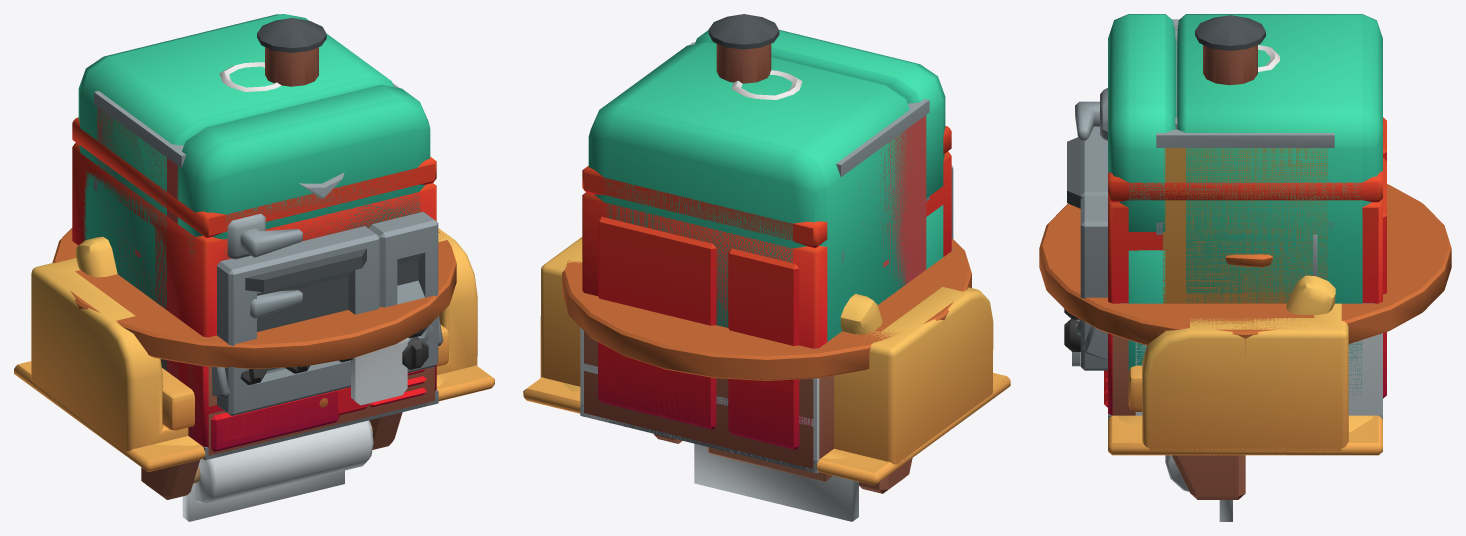
Rendered from kaykit.glb.
3 renders of one model, left to right at view 1: azimuth 30°, elevation 25°; view 2: azimuth 150°, elevation 25°; view 3: azimuth 270°, elevation 25°, orthographic.
Parts seen in each view (by area): view 1: fridge_A_decorated, fridge_A_decorated_door_top, oven, couch_pillows, oven_door, table_round_A, shelf_papertowel_decorated, stove_multi, building_F, building_D, rug_rectangle_stripes_A, kitchencounter_straight_A_decorated (+5 smaller); view 2: fridge_A_decorated, oven, couch_pillows, table_round_A, stove_multi, building_F, crate_buns, fridge_A_decorated_door_top, shelf_papertowel_decorated, rug_rectangle_stripes_A, building_D, kitchencounter_straight_A (+5 smaller); view 3: fridge_A_decorated, couch_pillows, building_F, table_round_A, oven, fridge_A_decorated_door_top, building_D, shelf_papertowel_decorated, rug_rectangle_stripes_A, kitchencounter_straight_A, oven_door, fridge_A_decorated_door_bottom (+4 smaller).
Part boxes in pixels (x1,y1,x2,y2): fridge_A_decorated: [78, 14, 393, 370]; fridge_A_decorated_door_top: [177, 84, 430, 259]; oven: [72, 117, 438, 446]; couch_pillows: [31, 228, 477, 453]; oven_door: [217, 226, 379, 415]; table_round_A: [52, 228, 456, 368]; shelf_papertowel_decorated: [141, 412, 402, 521]; stove_multi: [161, 316, 443, 451]; building_F: [94, 83, 398, 379]; building_D: [257, 18, 326, 86]; rug_rectangle_stripes_A: [14, 361, 494, 472]; kitchencounter_straight_A_decorated: [245, 337, 411, 405]; fridge_A_decorated: [588, 42, 912, 405]; oven: [582, 126, 951, 447]; couch_pillows: [540, 237, 993, 466]; table_round_A: [562, 238, 971, 380]; stove_multi: [587, 343, 812, 449]; building_F: [689, 42, 929, 287]; crate_buns: [584, 331, 833, 468]; fridge_A_decorated_door_top: [695, 30, 945, 197]; shelf_papertowel_decorated: [654, 434, 912, 521]; rug_rectangle_stripes_A: [523, 373, 1010, 485]; building_D: [708, 14, 779, 83]; kitchencounter_straight_A: [580, 290, 819, 472]; fridge_A_decorated: [1177, 14, 1382, 394]; couch_pillows: [1128, 275, 1348, 450]; building_F: [1156, 19, 1334, 303]; table_round_A: [1039, 184, 1451, 354]; oven: [1064, 117, 1386, 415]; fridge_A_decorated_door_top: [1075, 14, 1176, 231]; building_D: [1175, 15, 1265, 129]; shelf_papertowel_decorated: [1165, 455, 1245, 521]; rug_rectangle_stripes_A: [1108, 415, 1382, 455]; kitchencounter_straight_A: [1135, 333, 1382, 418]; oven_door: [1067, 127, 1107, 208]; fridge_A_decorated_door_bottom: [1128, 250, 1165, 371].
Size of the model in its own units: 3 by 3.88 by 3.
Materials: 3 (3 with a texture image).
